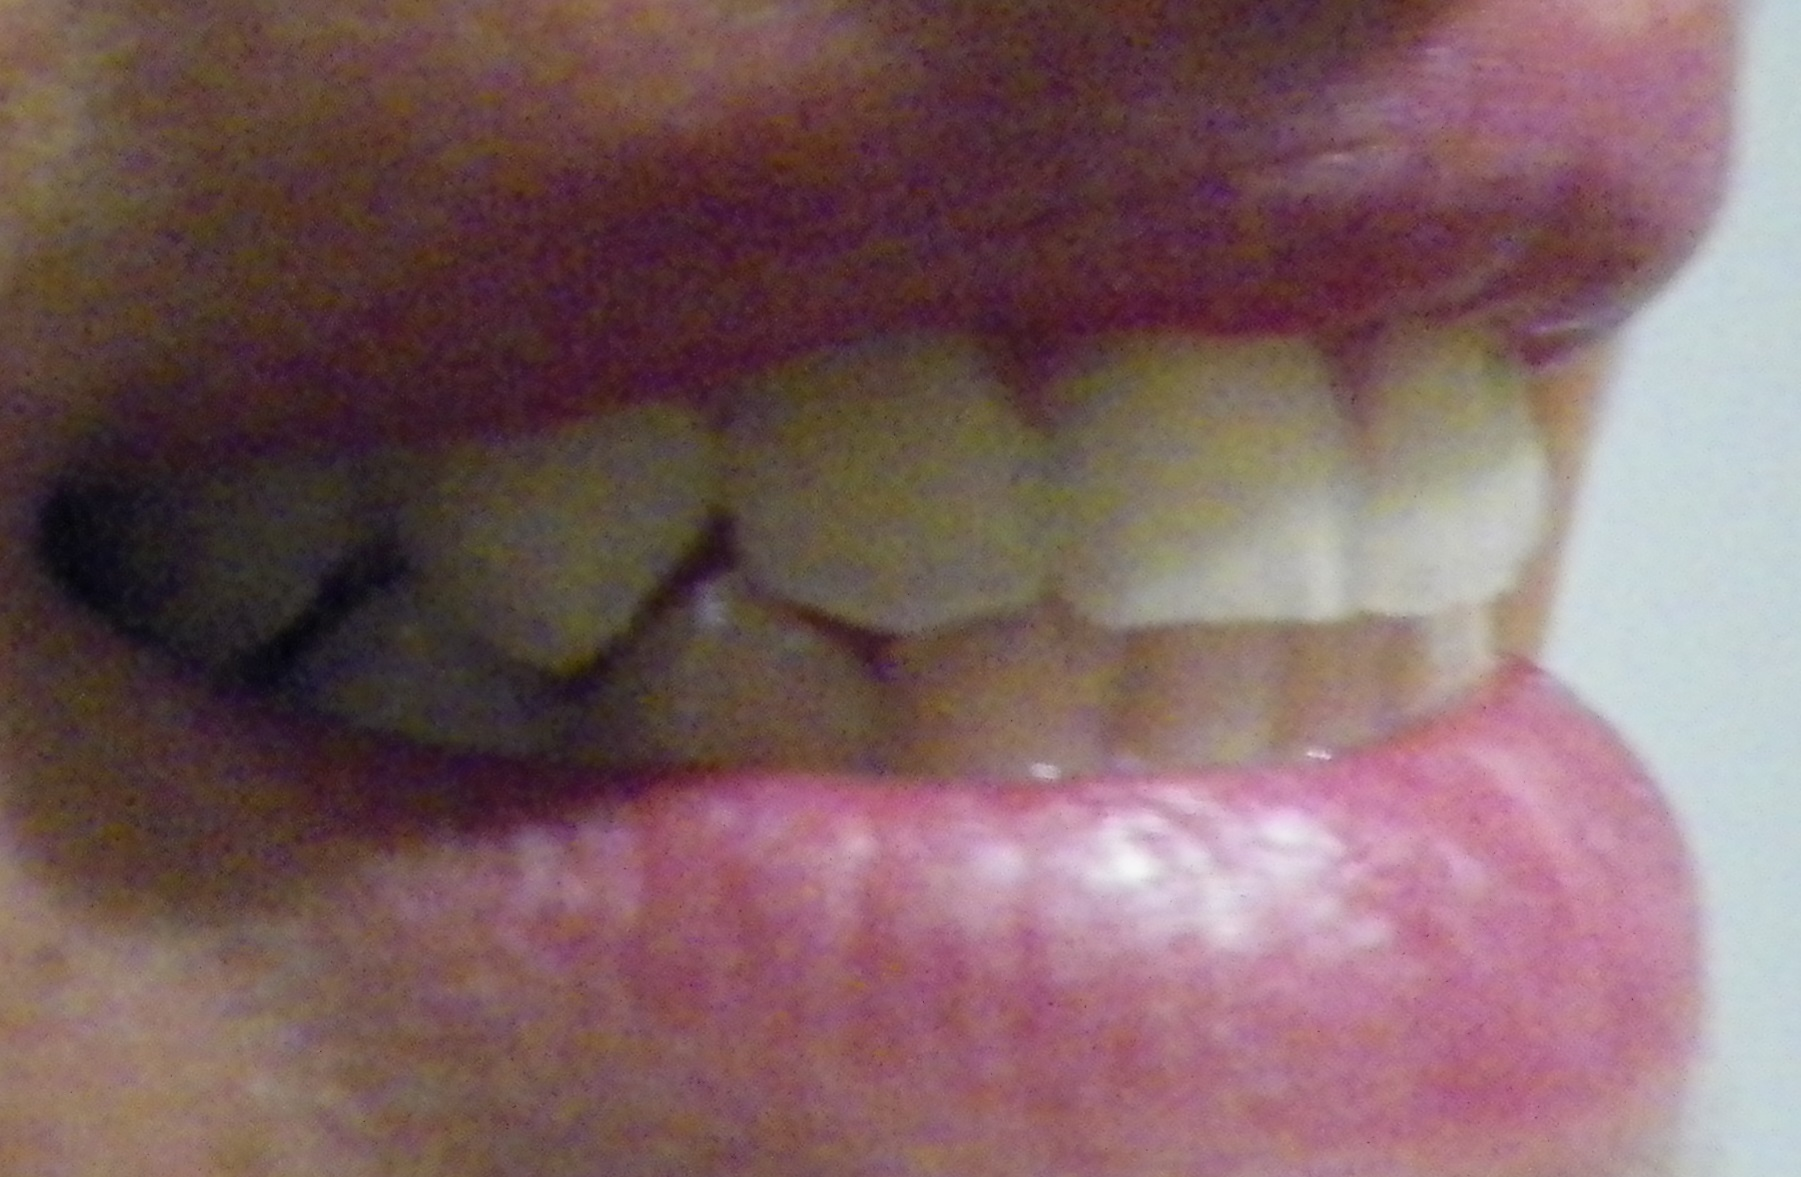boca: (96, 318, 1563, 762)
